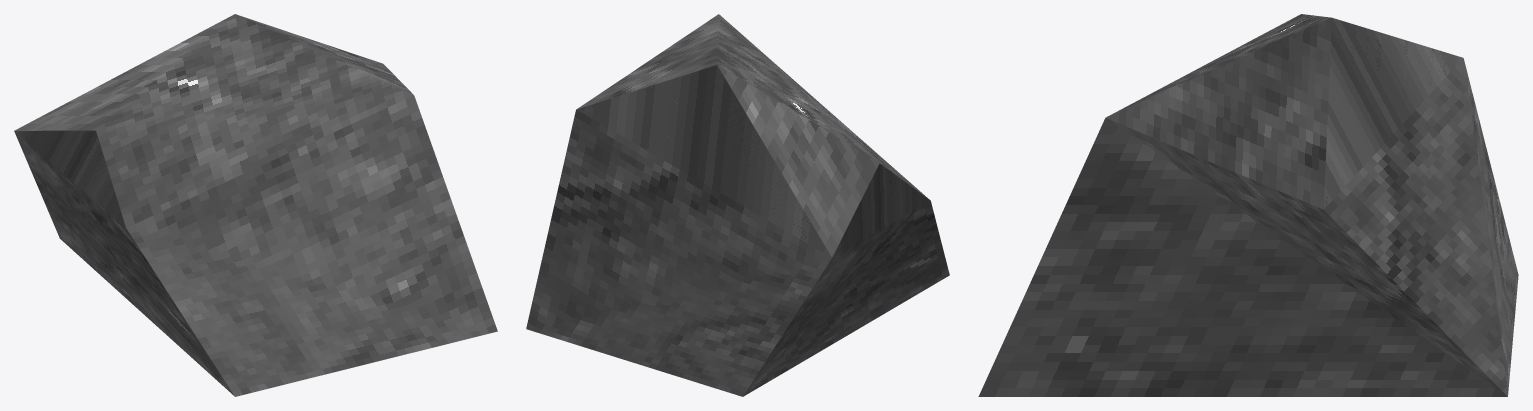
Rendered from rock2.glb.
3 renders of one model, left to right at view 1: azimuth 30°, elevation 25°; view 2: azimuth 150°, elevation 25°; view 3: azimuth 270°, elevation 25°, orthographic. The views are drawn at different scales.
Visible parts, largest first — view 1: Cube; view 2: Cube; view 3: Cube.
Part boxes in pixels (bbox=[...]): Cube: bbox=[14, 14, 497, 396]; Cube: bbox=[526, 14, 949, 396]; Cube: bbox=[978, 14, 1518, 396].
Bounding box in the file's own units: 1.71 × 1.4 × 2.04.
Materials: 1 (1 with a texture image).
